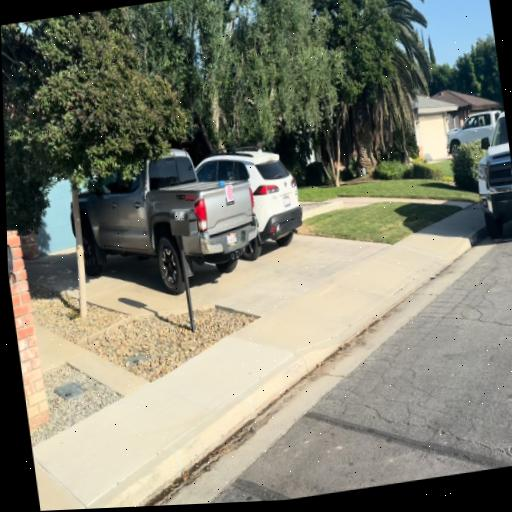bullseye: (226, 184, 234, 202)
